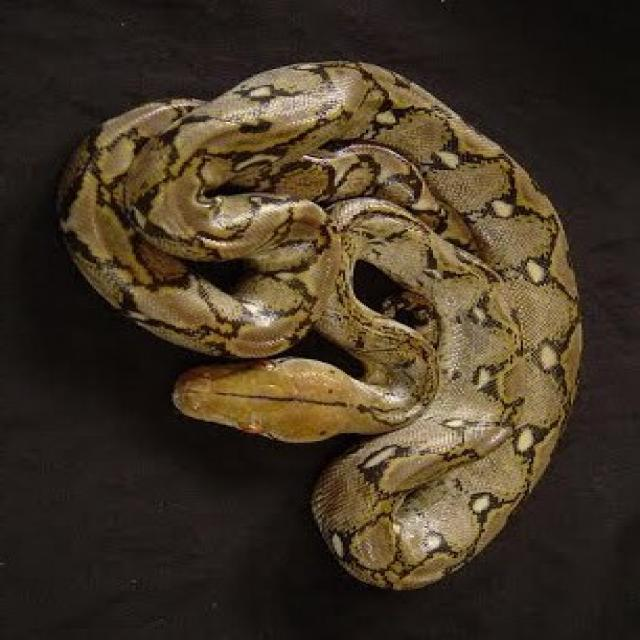Non-Venomous: (152, 302, 422, 461)
